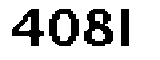0: (47, 6, 82, 52)
4: (10, 8, 46, 50)
8: (83, 8, 114, 49)
I: (119, 4, 143, 52)
